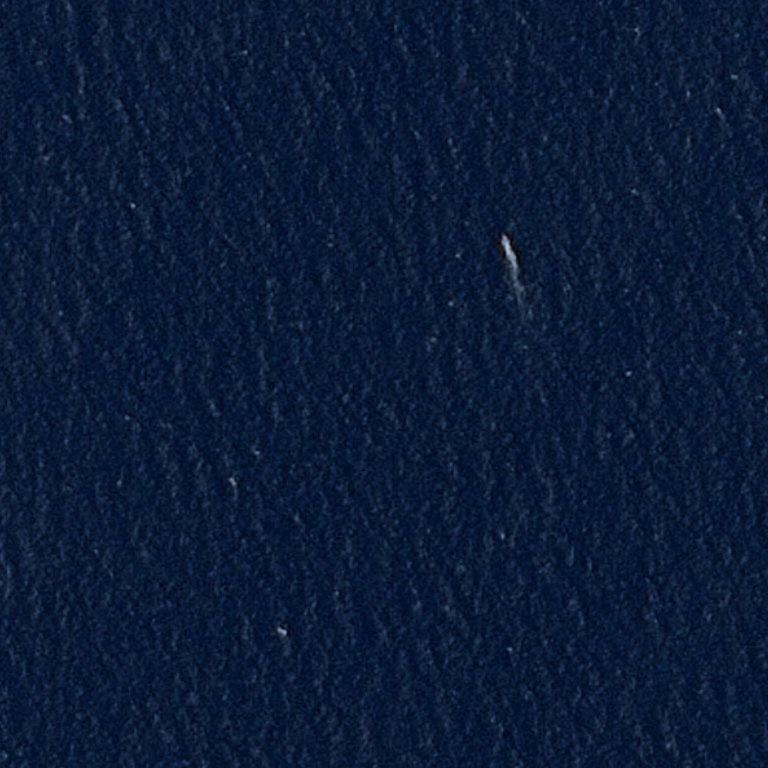ship: (503, 234, 509, 258), (501, 235, 507, 239), (509, 235, 512, 239), (506, 0, 508, 3)
